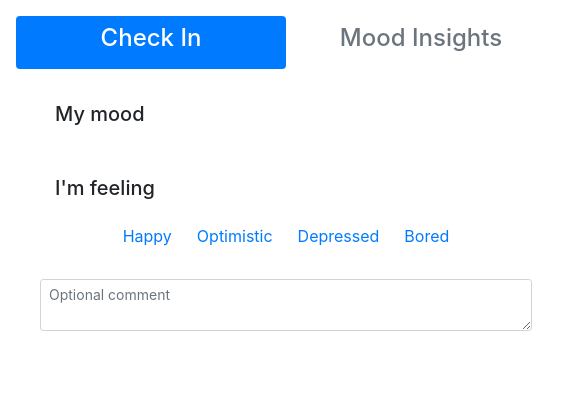
Test: App - as a user › when I check in my mood and view my mood insights › I see the check-in I submitted
Click the text "Happy".
click(147, 235)  # box [123,224,172,246]
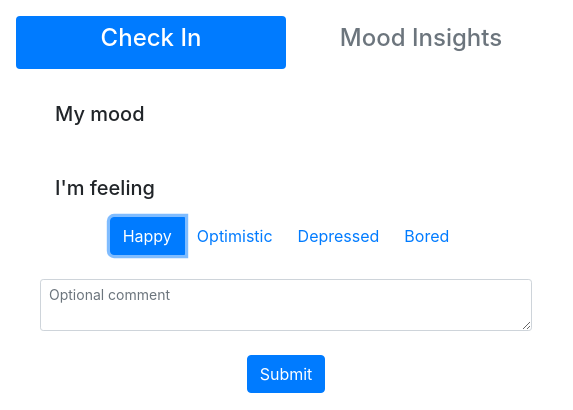
Type "Comment 1" into the text box.
click(286, 305); type("Comment 1")  # box [40,279,532,331]
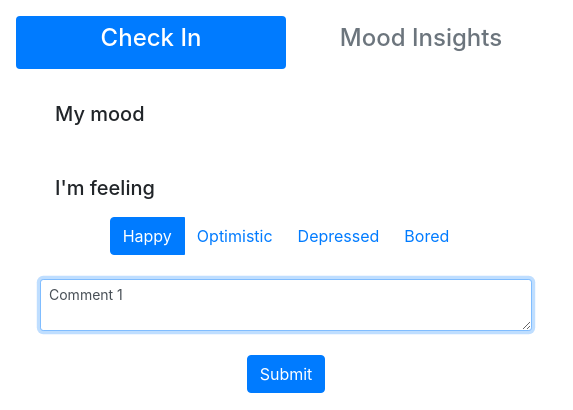
Click the button "Submit".
click(286, 374)  # box [247,355,325,393]
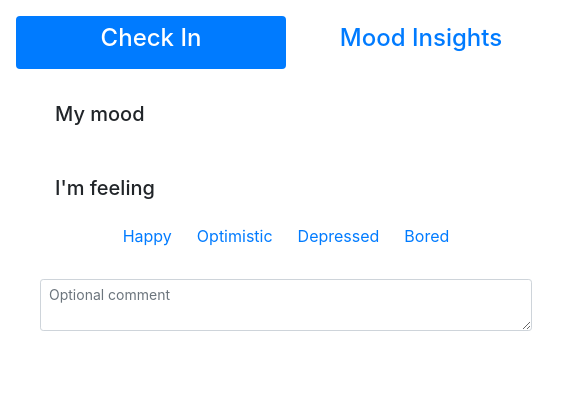
Click the link "Mood Insights".
click(421, 38)  # box [340,23,502,52]
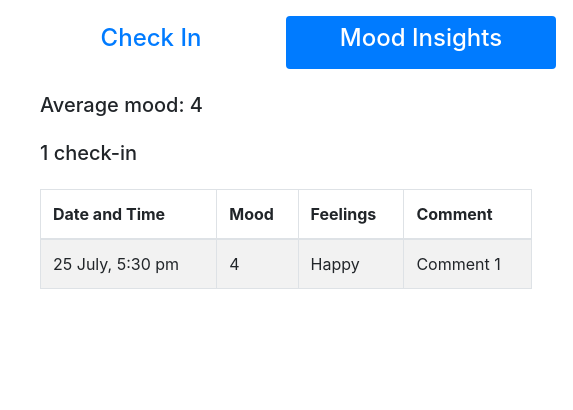
Expected: the column heading "Date and Time" is shown, [40,189,217,239]
Expected: the column heading "Mood" is shown, [217,189,298,239]
Expected: the column heading "Feelings" is shown, [298,189,404,239]
